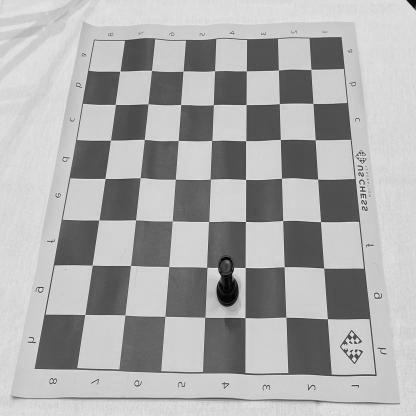black-rook: (216, 254, 240, 309)
